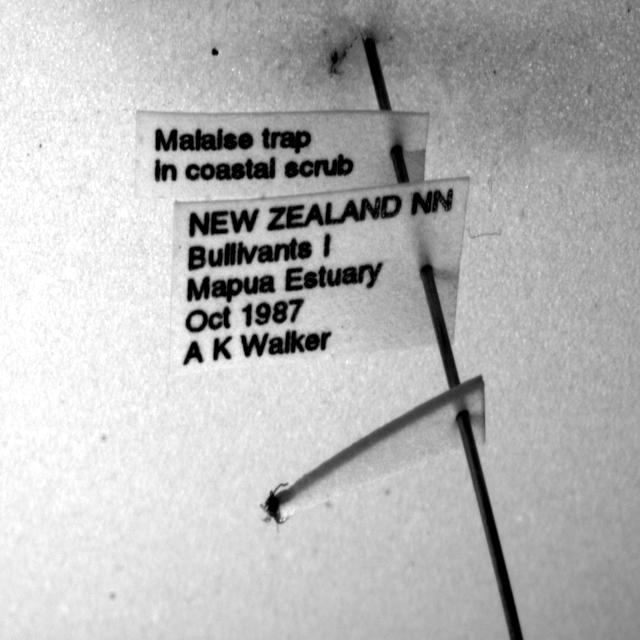typed_label: (170, 178, 469, 373), (136, 111, 429, 199)
